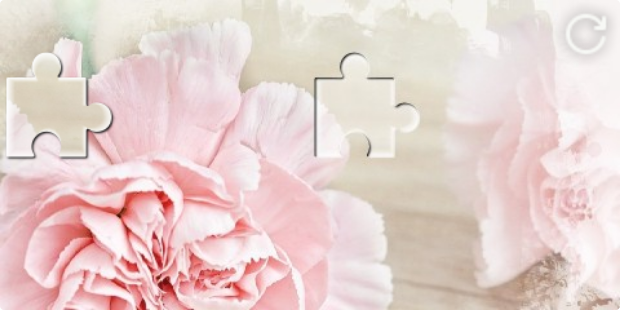target: (314, 51, 420, 158)
